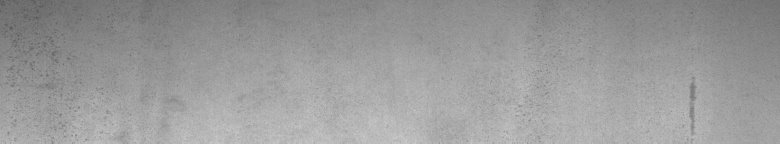ib: (5, 17, 67, 131)
